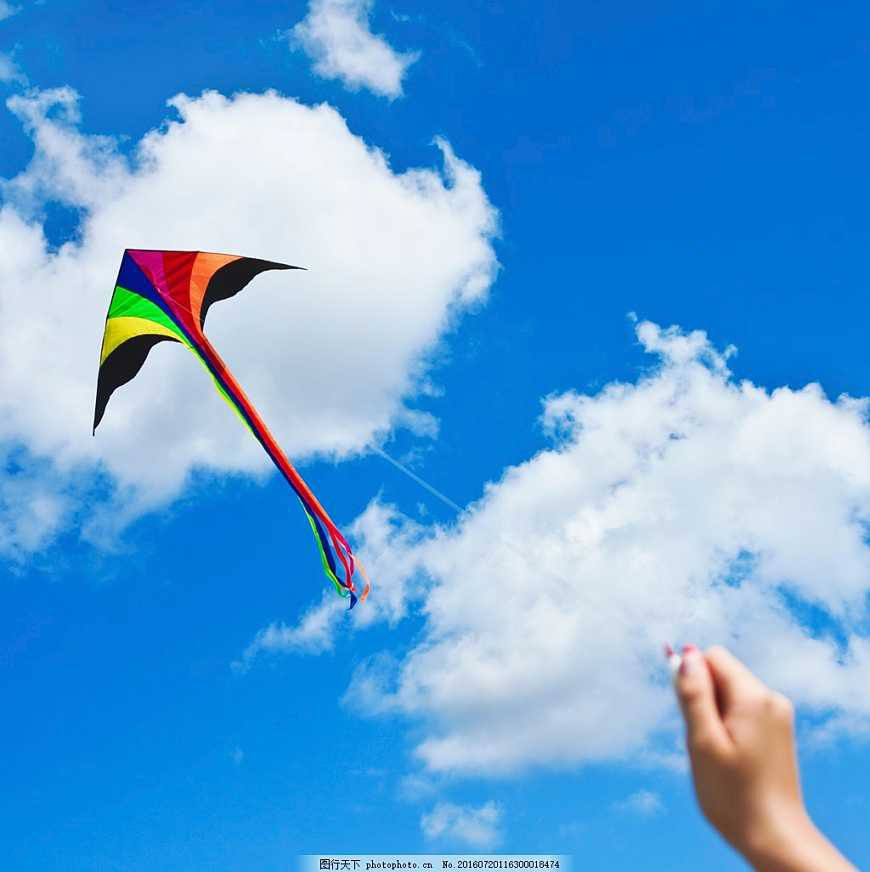kite: (91, 243, 366, 604)
